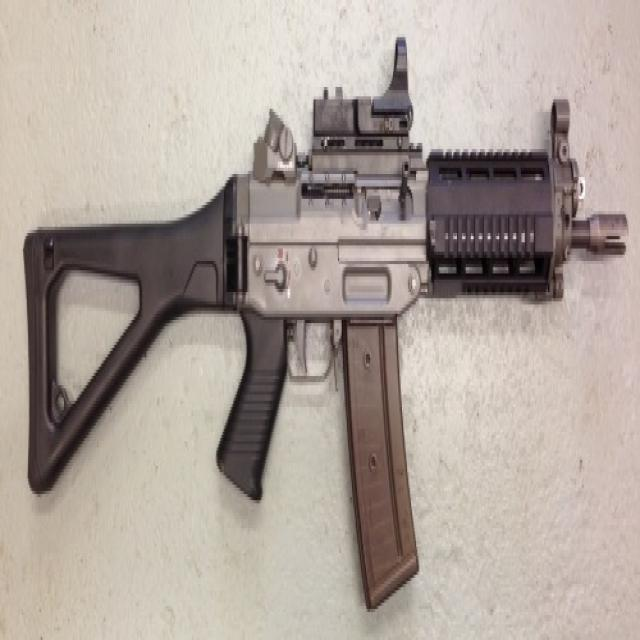rifle: (12, 26, 636, 625)
